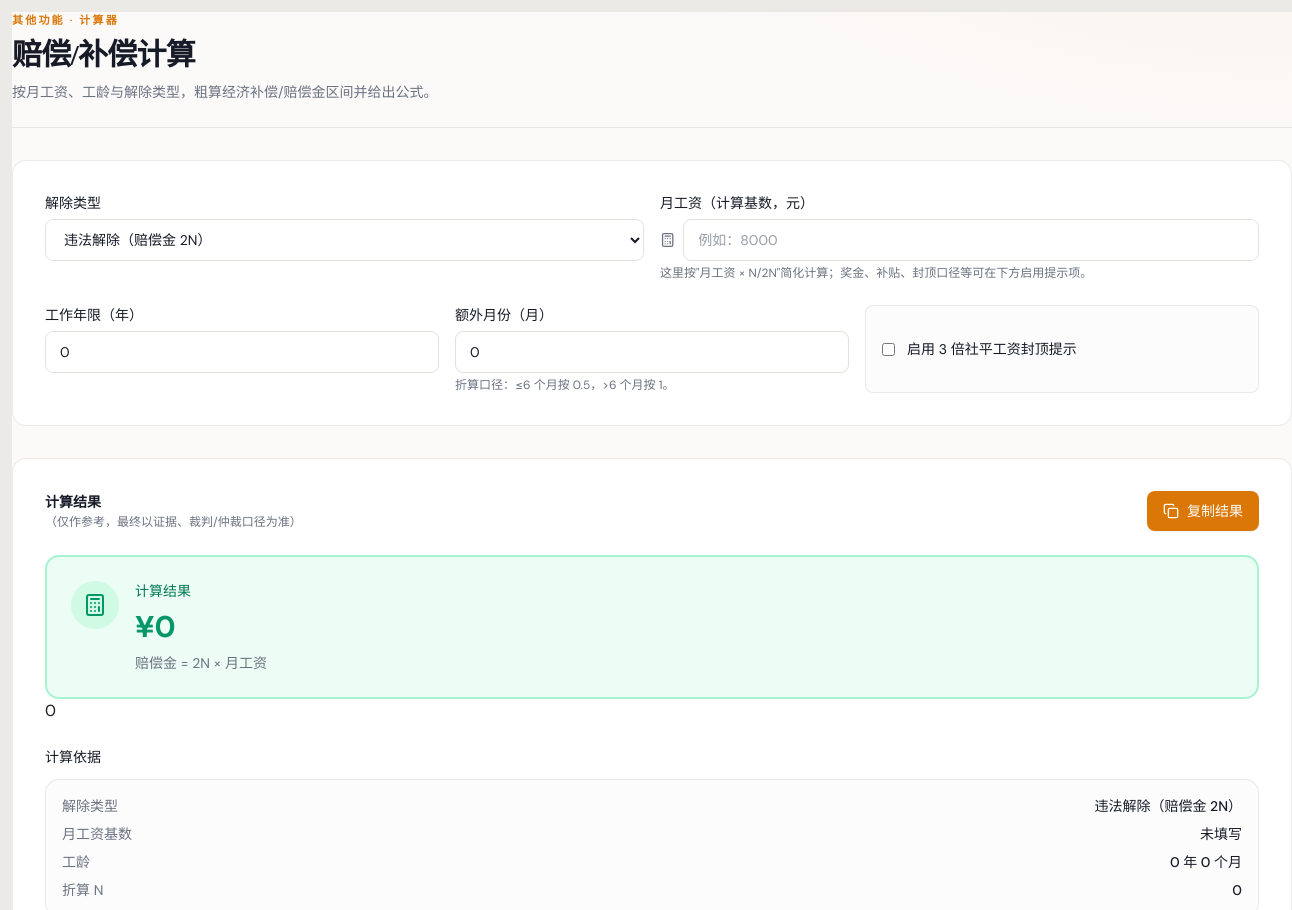
CompensationCalculator › shows local average wage field when cap checkbox is checked
Click the checkbox labelled "启用 3 倍社平工资封顶提示": [888, 349] box [882,343,895,356]
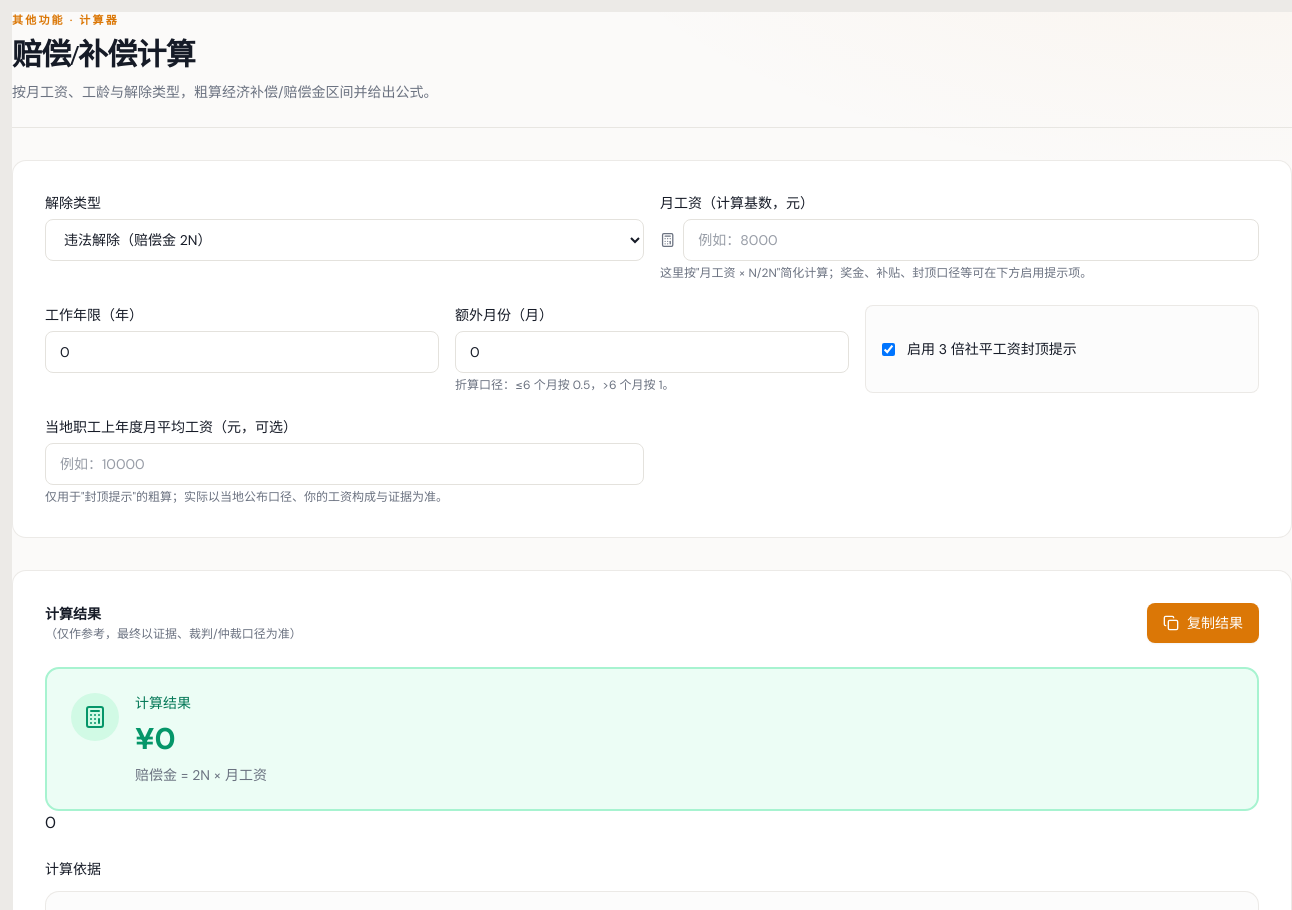
Check: the field with placeholder "例如：10000" is shown, box [45,443,644,485]
